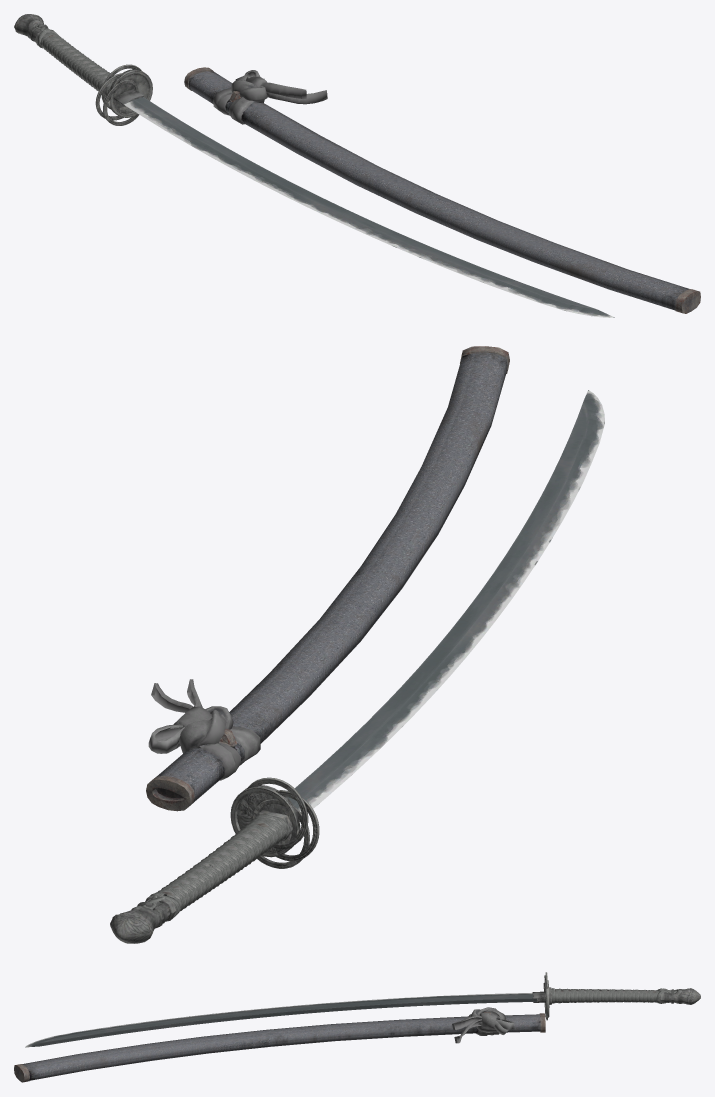
The model's file is moonveil.fbx.
3 views of the same model, one above another, from view 1: azimuth 30°, elevation 25°; view 2: azimuth 150°, elevation 25°; view 3: azimuth 270°, elevation 25° (orthographic). The views are drawn at different scales.
Parts seen in each view (by area): view 1: WP_A_0556.002, WP_A_0556.001, WP_A_0556.003, WP_A_0556; view 2: WP_A_0556.002, WP_A_0556.001, WP_A_0556.003, WP_A_0556; view 3: WP_A_0556.002, WP_A_0556.001, WP_A_0556, WP_A_0556.003.
Boxes of the visible parts, x1,y1,x2,y2 form: WP_A_0556.002: (184, 67, 700, 313); WP_A_0556.001: (14, 14, 614, 317); WP_A_0556.003: (213, 70, 327, 124); WP_A_0556: (40, 33, 120, 96); WP_A_0556.002: (146, 346, 509, 811); WP_A_0556.001: (110, 390, 604, 943); WP_A_0556.003: (148, 679, 260, 780); WP_A_0556: (156, 814, 287, 911); WP_A_0556.002: (14, 1012, 545, 1082); WP_A_0556.001: (25, 972, 700, 1047); WP_A_0556: (551, 988, 659, 1003); WP_A_0556.003: (452, 1007, 514, 1043).
Bounding box in the file's own units: 47.85 × 10.69 × 150.
4 materials, 4 textured.
